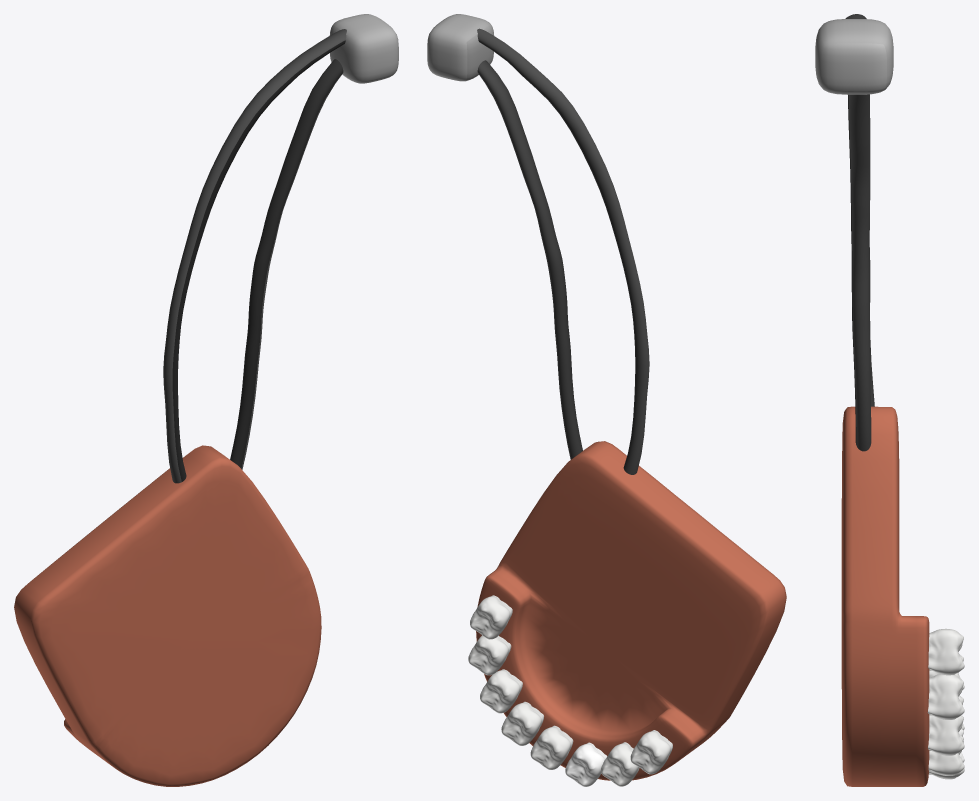
Rendered from teeth.glb.
3 renders of one model, left to right at view 1: azimuth 30°, elevation 25°; view 2: azimuth 150°, elevation 25°; view 3: azimuth 270°, elevation 25°, orthographic. The views are drawn at different scales.
Visible parts, largest first — view 1: teeth; view 2: teeth; view 3: teeth.
Boxes of the visible parts, left/top/right/bottom form: teeth: left=14, top=14, right=398, bottom=786; teeth: left=427, top=14, right=786, bottom=786; teeth: left=815, top=14, right=964, bottom=786.
Bounding box in the file's own units: 0.2141 × 0.4091 × 0.0659.
Materials: 4 (1 with a texture image).
